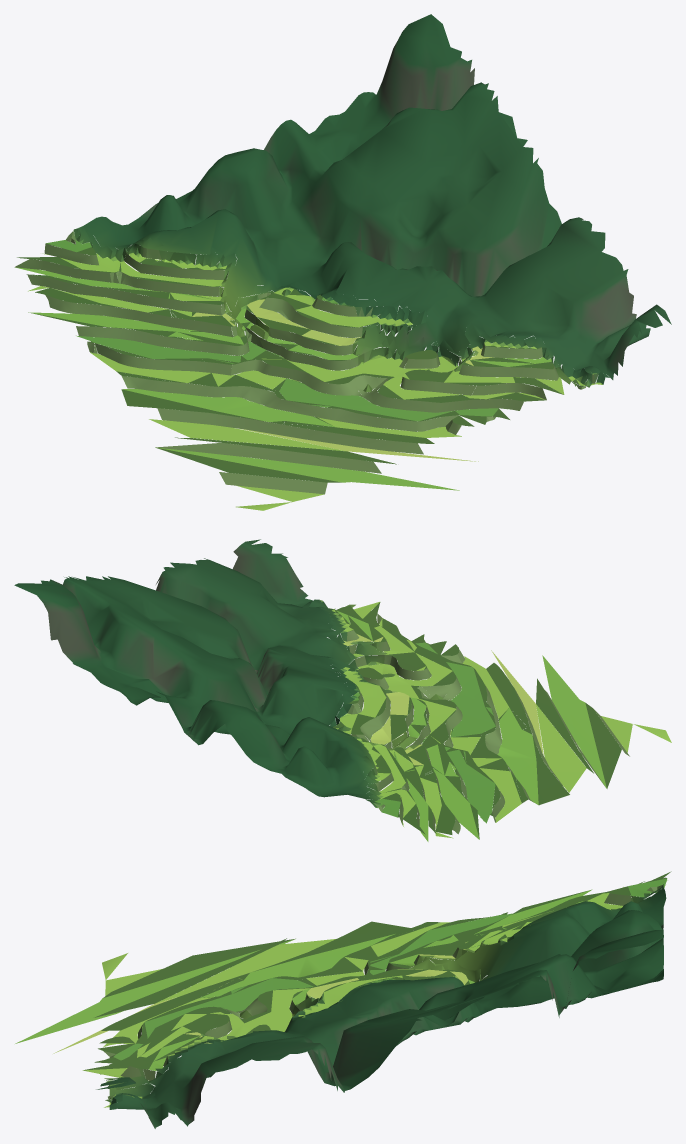
File: payo_land_xm4_y6_lod1.glb
3 views of the same model, one above another, from view 1: azimuth 30°, elevation 25°; view 2: azimuth 150°, elevation 25°; view 3: azimuth 270°, elevation 25° (orthographic). The views are drawn at different scales.
Parts seen in each view (by area): view 1: payo_land_xm4_y6; view 2: payo_land_xm4_y6; view 3: payo_land_xm4_y6.
Part boxes in pixels (x1,y1,x2,y2): payo_land_xm4_y6: (14,14,671,510); payo_land_xm4_y6: (14,539,671,841); payo_land_xm4_y6: (15,871,671,1128).
Bounding box in the file's own units: 275 × 131 × 303.
